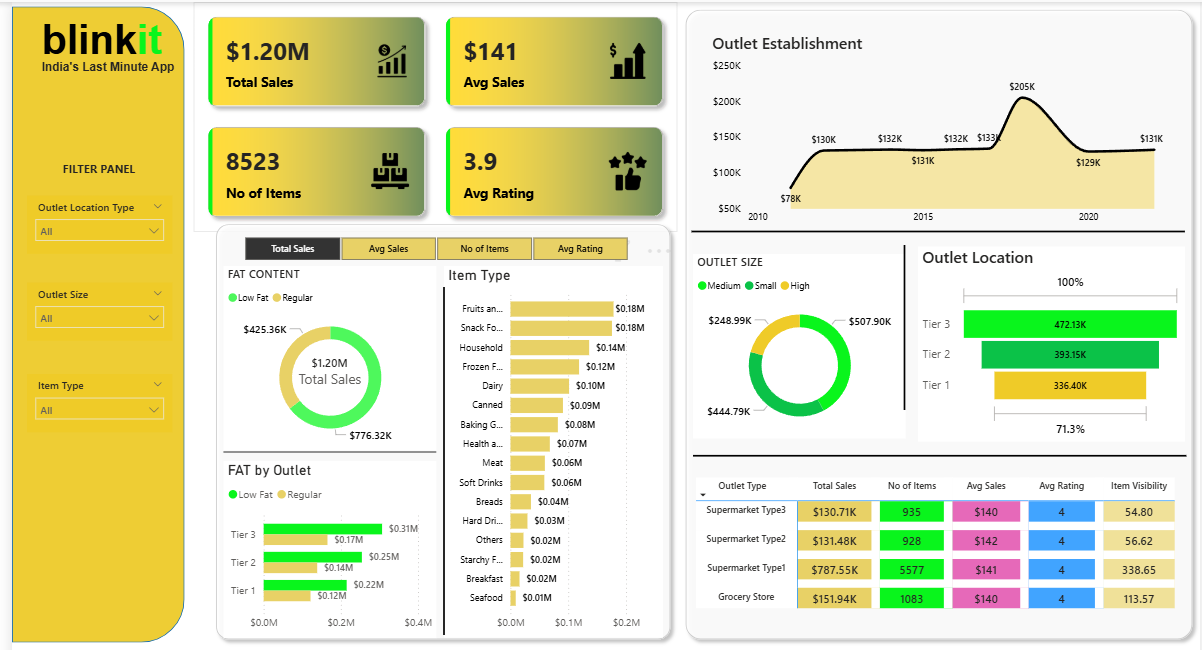

The page's visual inventory and layout, read from the dashboard file:
{"tool":"powerbi","page":{"name":"Blinkit dashboard","canvas":[1400,800],"ordinal":0},"visuals":[{"type":"shape","box":[0,5.3,203.2,749.4],"z":0},{"type":"textbox","box":[30,12.4,171.4,72.5],"z":1000},{"type":"textbox","box":[30,61.9,210.3,74.2],"z":2000},{"type":"cardVisual","fields":{"Data":["BlinkIT Grocery Data.Total Sales","BlinkIT Grocery Data.Avg Sales","BlinkIT Grocery Data.No of Items","BlinkIT Grocery Data.Avg Rating"]},"box":[213.8,0,570.9,270.4],"z":3000},{"type":"shape","box":[231.5,252.7,553.2,507.2],"z":4000},{"type":"donutChart","title":"FAT CONTENT","fields":{"Y":["BlinkIT Grocery Data.Total Sales"],"Category":["BlinkIT Grocery Data.Item Fat Content"]},"box":[249.2,311.1,251,217.4],"z":5000},{"type":"slicer","fields":{"Values":["Metrics.Metrics"]},"box":[249.2,270.4,500.2,40.6],"z":6000},{"type":"cardVisual","fields":{"Data":["BlinkIT Grocery Data.Total Sales"]},"box":[319.9,387,109.6,95.4],"z":7000},{"type":"clusteredBarChart","title":"FAT by Outlet ","fields":{"Y":["BlinkIT Grocery Data.Total Sales"],"Category":["BlinkIT Grocery Data.Outlet Location Type"],"Series":["BlinkIT Grocery Data.Item Fat Content"]},"box":[249.2,540.8,251,208.5],"z":8000},{"type":"shape","box":[249.2,415.3,251,229.8],"z":9000},{"type":"barChart","title":"Item Type","fields":{"Y":["BlinkIT Grocery Data.Total Sales"],"Category":["BlinkIT Grocery Data.Item Type"]},"box":[509,311.1,258,438.3],"z":10000},{"type":"shape","box":[784.7,0,615,760],"z":11000},{"type":"lineChart","title":"Outlet Establishment","fields":{"Category":["BlinkIT Grocery Data.Outlet Establishment Year"],"Y":["BlinkIT Grocery Data.Total Sales"]},"box":[820,35.3,542.6,235.1],"z":12000},{"type":"shape","box":[800.6,252.7,581.5,35.3],"z":12001},{"type":"shape","box":[493.1,335.8,31.8,410],"z":12002},{"type":"donutChart","title":"OUTLET SIZE","fields":{"Y":["BlinkIT Grocery Data.Total Sales"],"Category":["BlinkIT Grocery Data.Outlet Size"]},"box":[802.4,296.9,251,217.4],"z":12003},{"type":"shape","box":[1035.7,286.3,31.8,194.4],"z":12004},{"type":"funnel","title":"Outlet Location ","fields":{"Category":["BlinkIT Grocery Data.Outlet Location Type"],"Y":["Sum(BlinkIT Grocery Data.Sales)"]},"box":[1067.5,288.1,314.6,229.8],"z":12005},{"type":"shape","box":[802.4,514.3,581.5,40.6],"z":12006},{"type":"pivotTable","fields":{"Rows":["BlinkIT Grocery Data.Outlet Type"],"Values":["BlinkIT Grocery Data.Total Sales","BlinkIT Grocery Data.No of Items","BlinkIT Grocery Data.Avg Sales","BlinkIT Grocery Data.Avg Rating","Sum(BlinkIT Grocery Data.Item Visibility)"]},"box":[800.6,554.9,583.2,205],"z":12007},{"type":"slicer","fields":{"Values":["BlinkIT Grocery Data.Outlet Location Type"]},"box":[17.7,228,171.4,68.9],"z":12008},{"type":"slicer","fields":{"Values":["BlinkIT Grocery Data.Outlet Size"]},"box":[17.7,330.5,171.4,68.9],"z":12009},{"type":"slicer","fields":{"Values":["BlinkIT Grocery Data.Item Type"]},"box":[17.7,438.3,171.4,68.9],"z":12010},{"type":"textbox","box":[54.8,182,141.4,46],"z":12011}]}

Visuals, with their boxes on the page's 1400x800 design canvas (x1, y1, x2, y2). These are canvas units, not pixel positions in the 1202x650 screenshot, which may show the page scaled, cropped or inside an application window:
shape: l=0, t=5, r=203, b=755
textbox: l=30, t=12, r=201, b=85
textbox: l=30, t=62, r=240, b=136
cardVisual - BlinkIT Grocery Data.Total Sales x BlinkIT Grocery Data.Avg Sales: l=214, t=0, r=785, b=270
shape: l=232, t=253, r=785, b=760
"FAT CONTENT" donutChart: l=249, t=311, r=500, b=528
slicer - Metrics.Metrics: l=249, t=270, r=749, b=311
cardVisual - BlinkIT Grocery Data.Total Sales: l=320, t=387, r=430, b=482
"FAT by Outlet " clusteredBarChart: l=249, t=541, r=500, b=749
shape: l=249, t=415, r=500, b=645
"Item Type" barChart: l=509, t=311, r=767, b=749
shape: l=785, t=0, r=1400, b=760
"Outlet Establishment" lineChart: l=820, t=35, r=1363, b=270
shape: l=801, t=253, r=1382, b=288
shape: l=493, t=336, r=525, b=746
"OUTLET SIZE" donutChart: l=802, t=297, r=1053, b=514
shape: l=1036, t=286, r=1068, b=481
"Outlet Location " funnel: l=1068, t=288, r=1382, b=518
shape: l=802, t=514, r=1384, b=555
pivotTable - BlinkIT Grocery Data.Outlet Type x BlinkIT Grocery Data.Total Sales: l=801, t=555, r=1384, b=760
slicer - BlinkIT Grocery Data.Outlet Location Type: l=18, t=228, r=189, b=297
slicer - BlinkIT Grocery Data.Outlet Size: l=18, t=330, r=189, b=399
slicer - BlinkIT Grocery Data.Item Type: l=18, t=438, r=189, b=507
textbox: l=55, t=182, r=196, b=228
